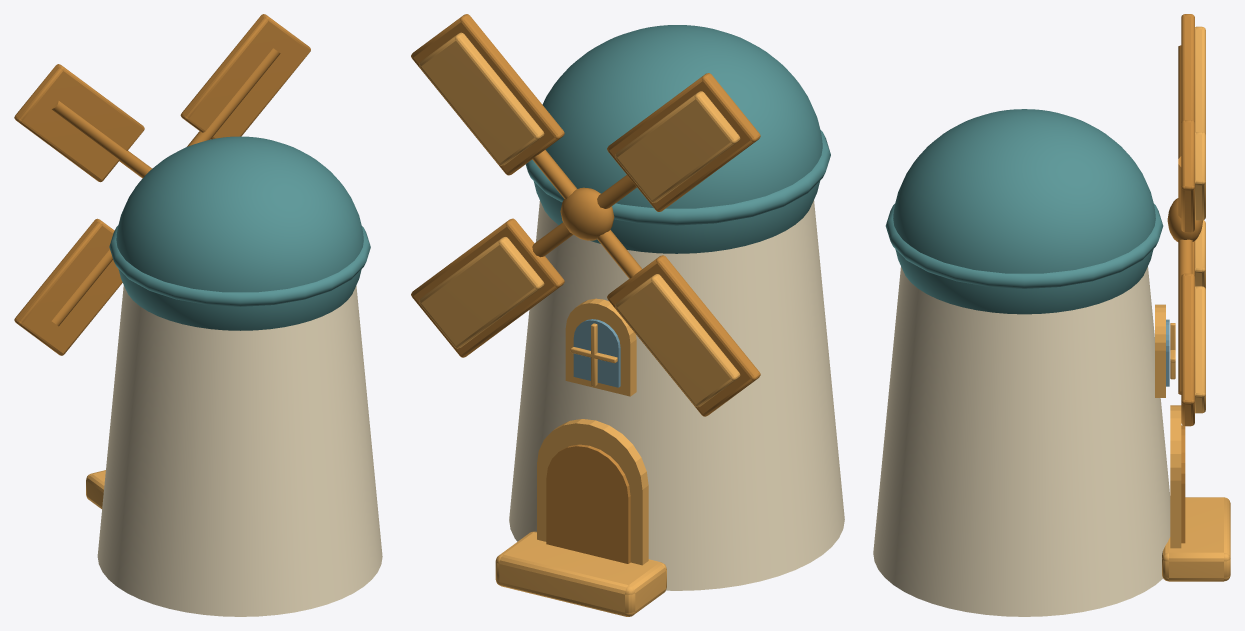
File: mill.fbx
The picture shows the model from 3 angles, left to right: view 1: azimuth 30°, elevation 25°; view 2: azimuth 150°, elevation 25°; view 3: azimuth 270°, elevation 25°; orthographic projection. The views are drawn at different scales.
Visible parts, largest first — view 1: mill; view 2: mill; view 3: mill.
Boxes of the visible parts, x1,y1,x2,y2 form: mill: (14, 14, 382, 616); mill: (411, 14, 844, 616); mill: (873, 14, 1230, 616).
Size of the model in its own units: 3 by 4.5 by 3.
Materials: 1 (1 with a texture image).
